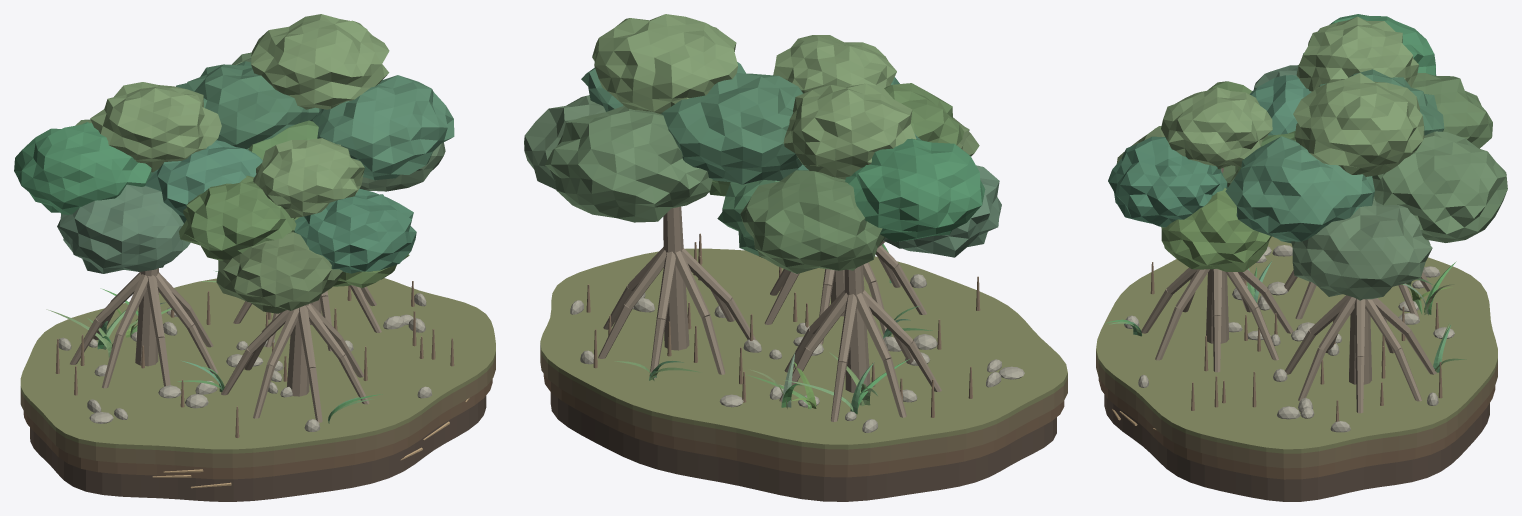
Rendered from mangrove.glb.
3 renders of one model, left to right at view 1: azimuth 30°, elevation 25°; view 2: azimuth 150°, elevation 25°; view 3: azimuth 270°, elevation 25°, orthographic. The views are drawn at different scales.
Parts seen in each view (by area): view 1: world; view 2: world; view 3: world.
Part boxes in pixels (bbox=[...]): world: bbox=[14, 14, 495, 501]; world: bbox=[524, 14, 1067, 501]; world: bbox=[1096, 14, 1507, 501].
Size of the model in its own units: 1.8 by 1.37 by 1.44.
